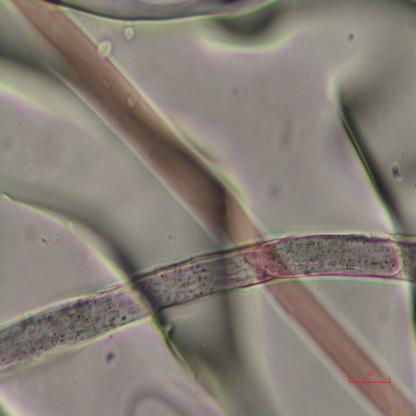Background material: (147, 292, 286, 414), (0, 169, 136, 287), (324, 67, 414, 229), (94, 0, 309, 63), (272, 124, 294, 158), (97, 32, 115, 61), (116, 21, 136, 44), (388, 164, 405, 186)
Microfibre: (8, 1, 416, 415), (0, 231, 416, 373)
